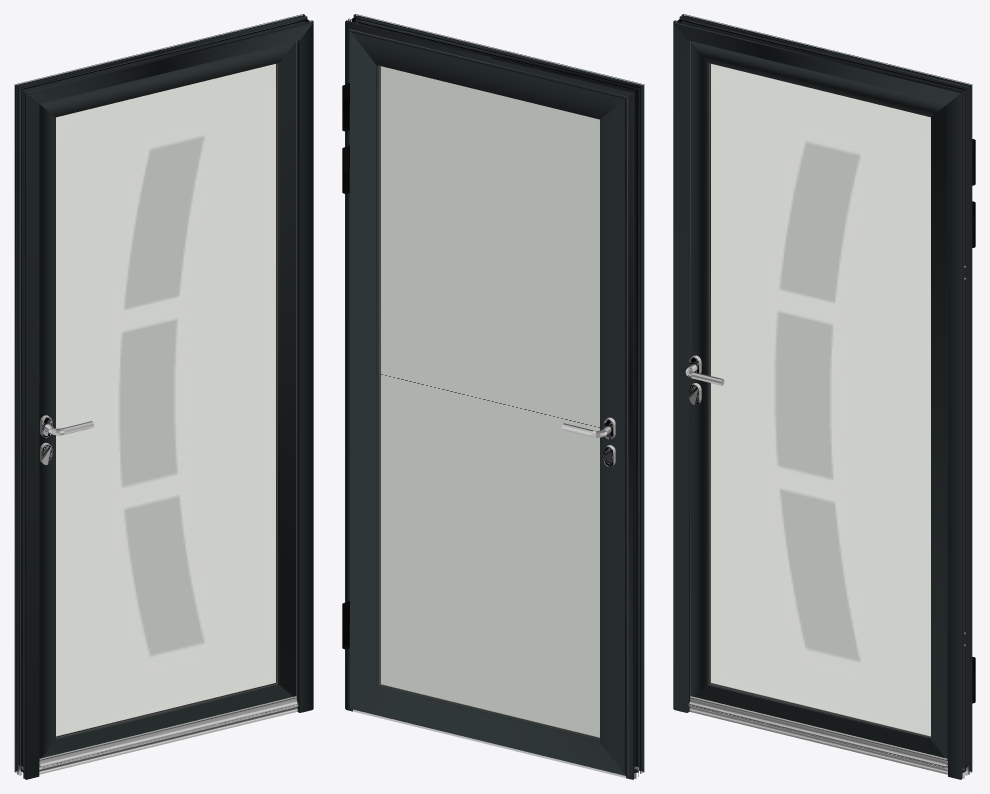
3 renders of one model, left to right at view 1: azimuth 30°, elevation 25°; view 2: azimuth 150°, elevation 25°; view 3: azimuth 330°, elevation 25°, orthographic.
Parts seen in each view (by area): view 1: ouvrant, 30_architect; view 2: ouvrant, 30_architect; view 3: ouvrant, 30_architect.
Boxes of the visible parts, left/top/right/bottom form: ouvrant: left=20, top=21, right=298, bottom=768; 30_architect: left=14, top=14, right=313, bottom=779; ouvrant: left=342, top=29, right=628, bottom=776; 30_architect: left=342, top=14, right=644, bottom=779; ouvrant: left=688, top=21, right=975, bottom=768; 30_architect: left=673, top=14, right=975, bottom=779.
Bounding box in the file's own units: 96 × 218 × 20.21.
Materials: 1 (1 with a texture image).
